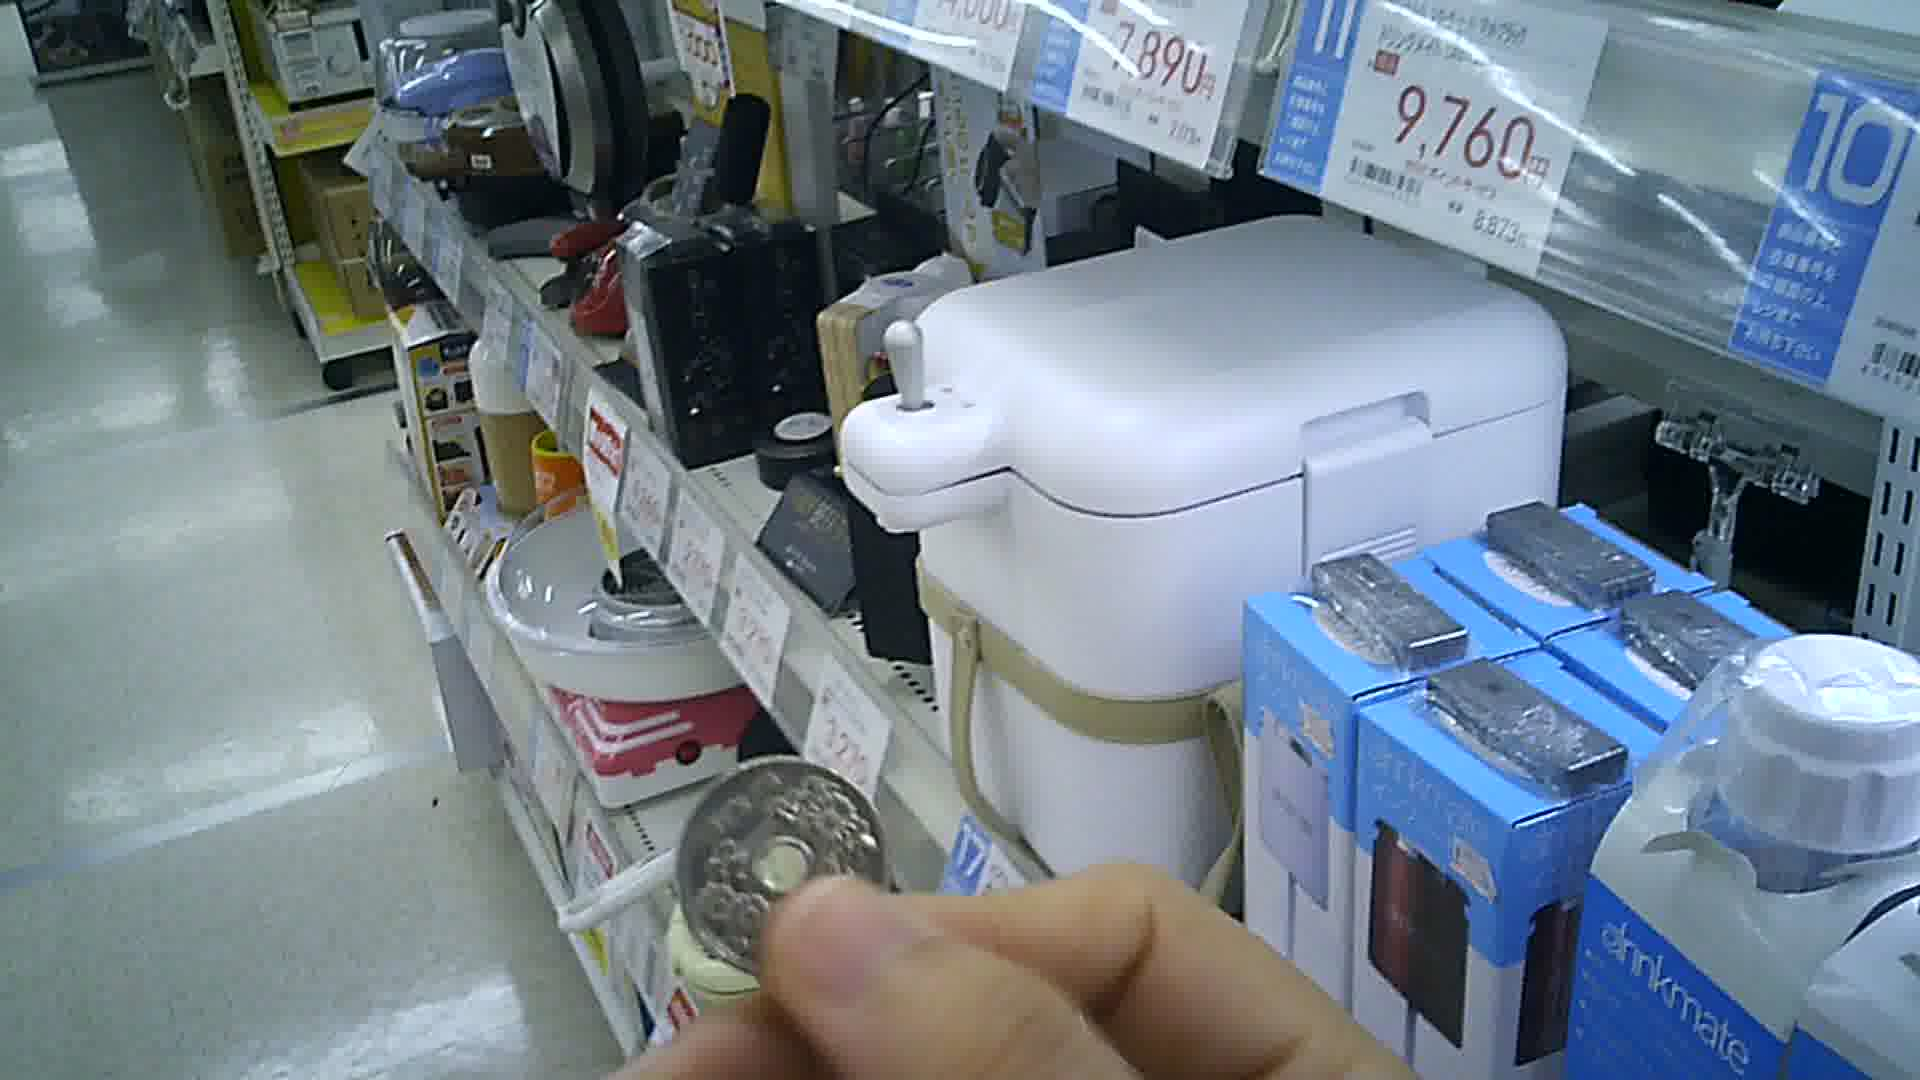50 Yen: (673, 756, 894, 986)
